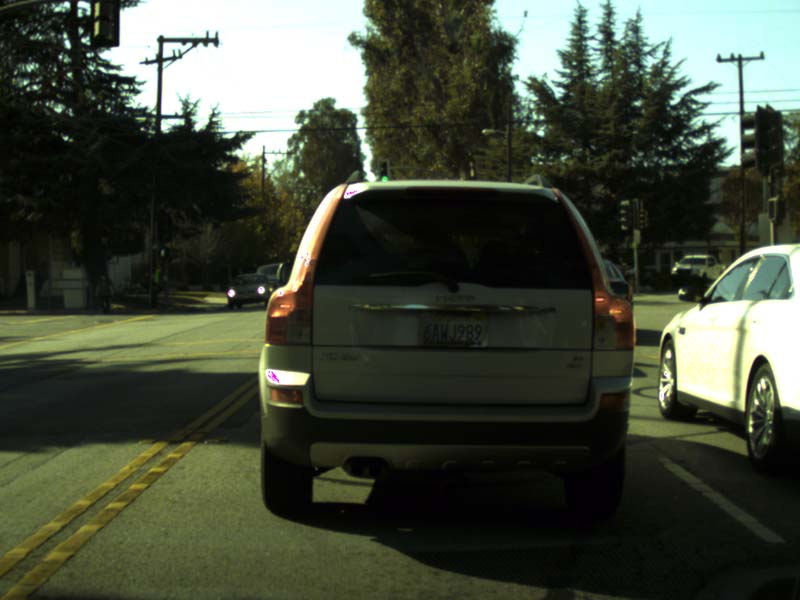Green: (379, 160, 387, 181)
